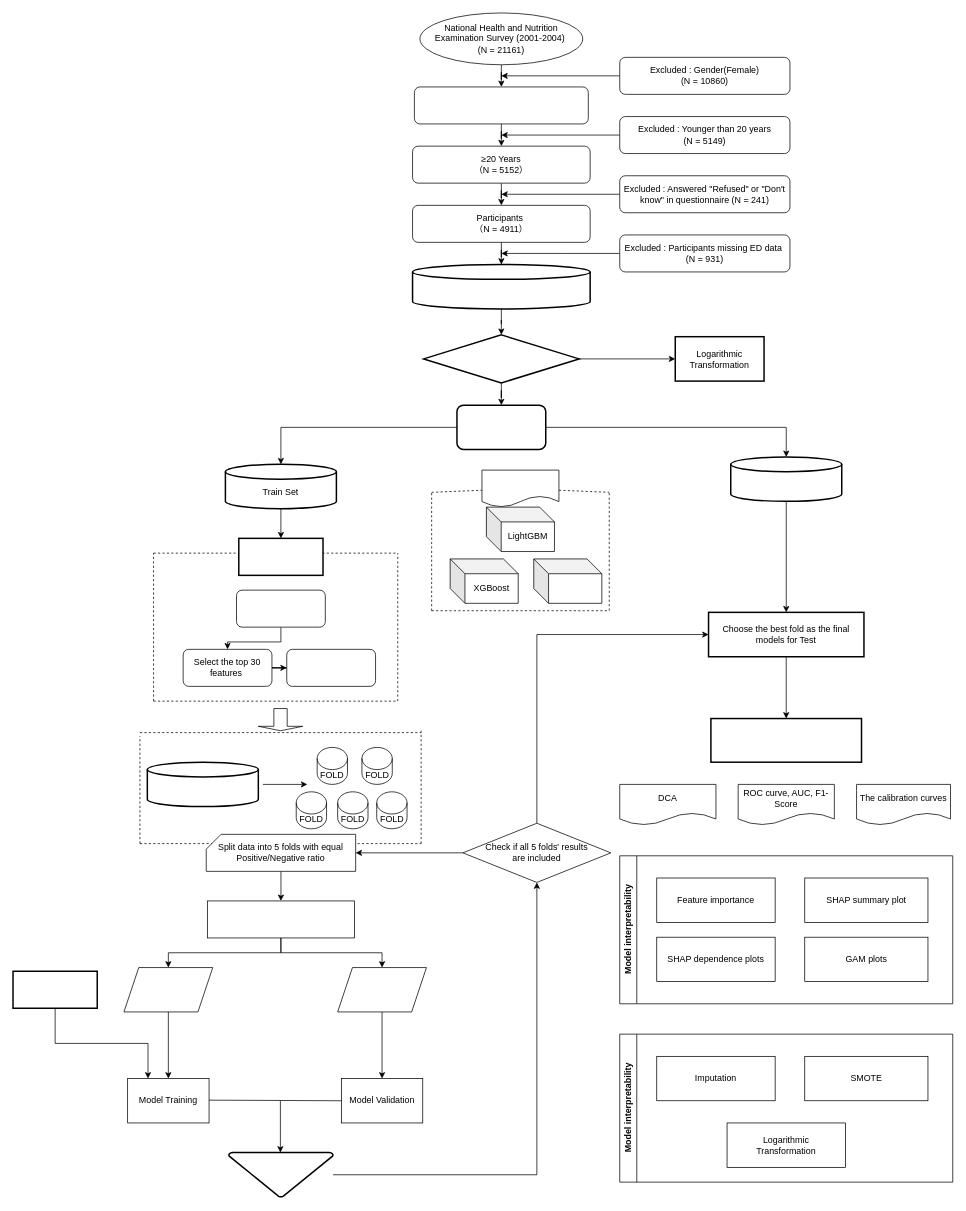
Image size: 966x1211. Some labels were removed from this diagram. Here are the shapes that lost their labels. From the top down, the box of each, then its label:
(414, 86, 588, 124): Gender:Male (N = 10301)
(411, 263, 591, 309): Participants with ED data (N = 3980)
(423, 334, 579, 383): Normal distribution
(456, 404, 546, 450): Stratified by 7:3 ratio
(481, 469, 559, 507): Models
(730, 456, 842, 502): Test Set
(238, 537, 323, 576): Features selection
(533, 558, 602, 603): CatBoost
(236, 589, 325, 627): Evaluate the feature importance of models
(286, 649, 376, 686): Take the intersection of selected features
(710, 717, 862, 763): Prediction/Evaluation models
(146, 761, 259, 807): Selected Train Data
(207, 900, 354, 938): Select one fold for validation non-repetitively, remaining for training
(12, 970, 98, 1009): Hyperparameter Tuning
(123, 967, 213, 1012): 4 FOLDS
(337, 967, 426, 1012): 1 FOLDS
(228, 1151, 333, 1197): The Results Aggregation
